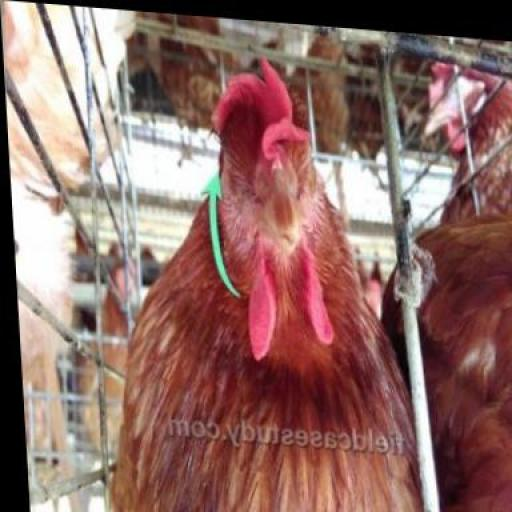disease: (212, 146, 272, 275)
